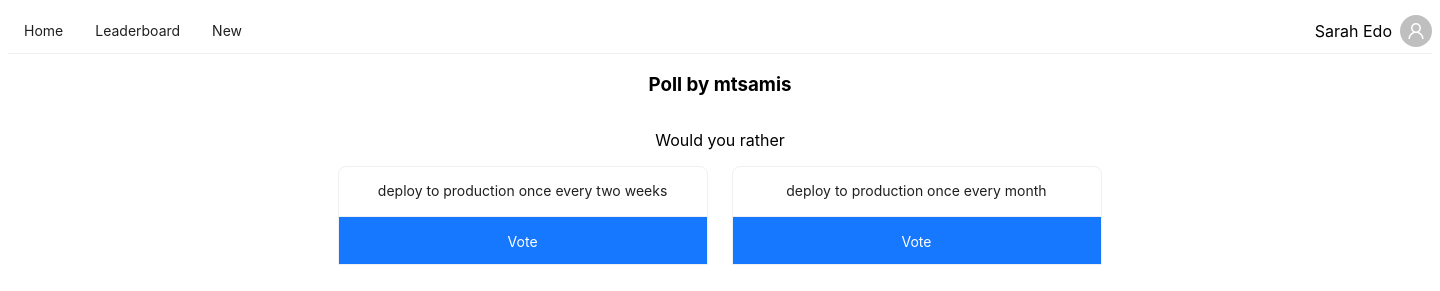
it: UI › quest new page load
Click the menu item "New". click: x=227, y=30
box: [212,22,242,39]
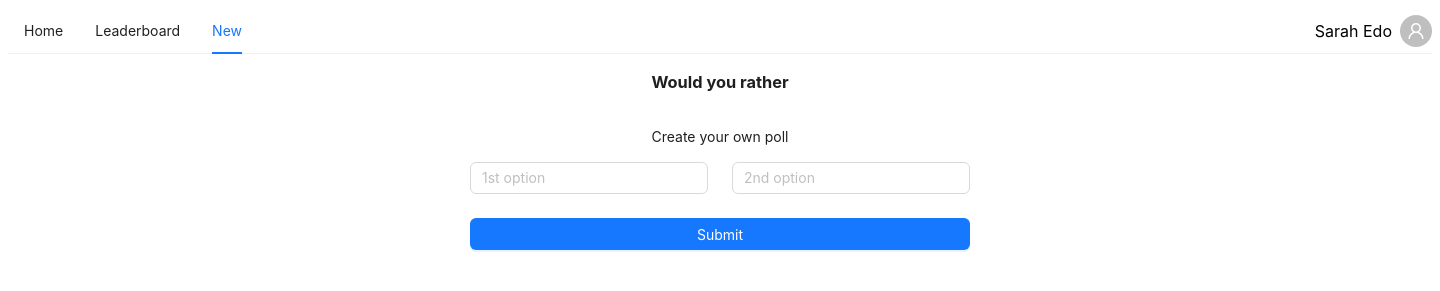
Now the form with test id "newForm" is shown, box [470,54,970,274]
